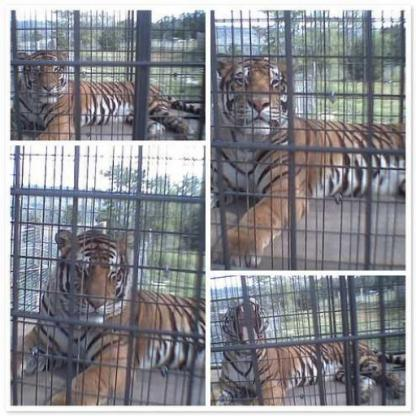Tiger: (216, 48, 408, 266), (16, 222, 204, 398), (215, 296, 402, 404), (12, 44, 200, 138)
